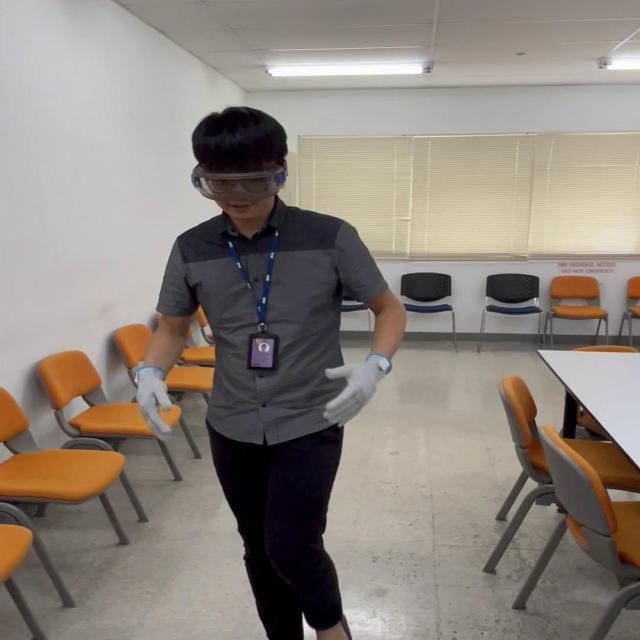gloved_hand: (313, 349, 389, 432), (127, 354, 182, 436)
